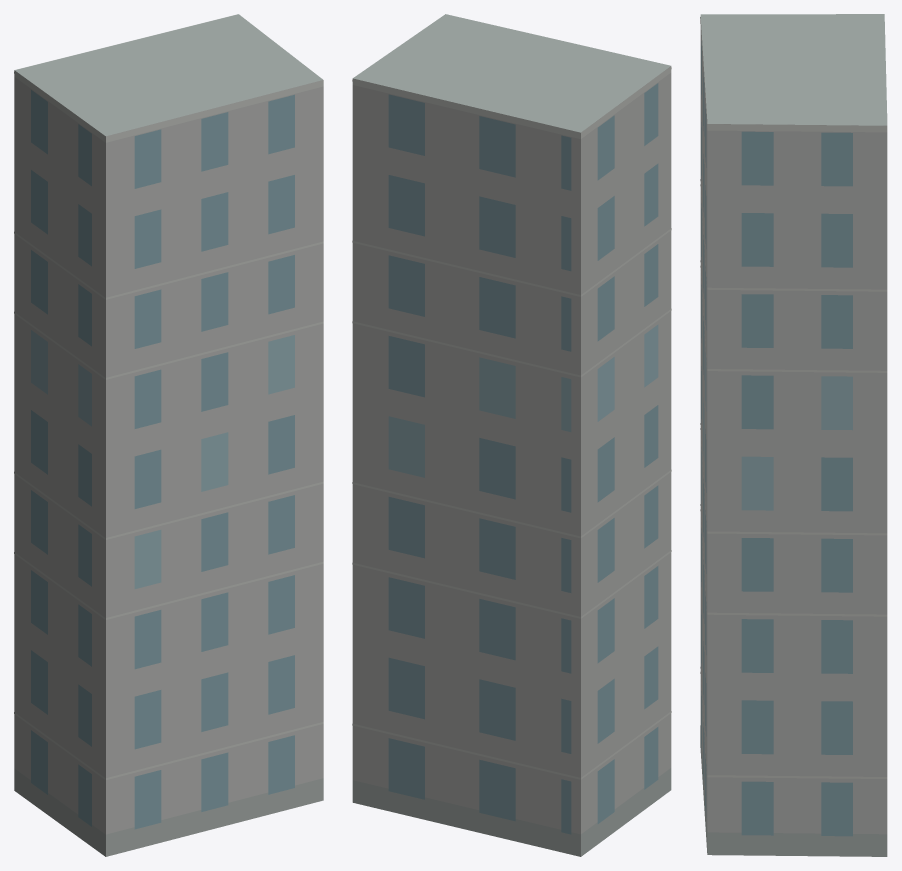
The model's file is survey-upis-32996974.glb.
The picture shows the model from 3 angles, left to right: view 1: azimuth 30°, elevation 25°; view 2: azimuth 150°, elevation 25°; view 3: azimuth 270°, elevation 25°; orthographic projection.
Parts seen in each view (by area): view 1: survey-upis-32996974.tmp; view 2: survey-upis-32996974.tmp; view 3: survey-upis-32996974.tmp.
Part boxes in pixels (x1=…): survey-upis-32996974.tmp: x1=14, y1=14, x2=323, y2=856; survey-upis-32996974.tmp: x1=352, y1=14, x2=671, y2=856; survey-upis-32996974.tmp: x1=700, y1=14, x2=887, y2=856.
Size of the model in its own units: 8.84 by 26.9 by 6.26.
